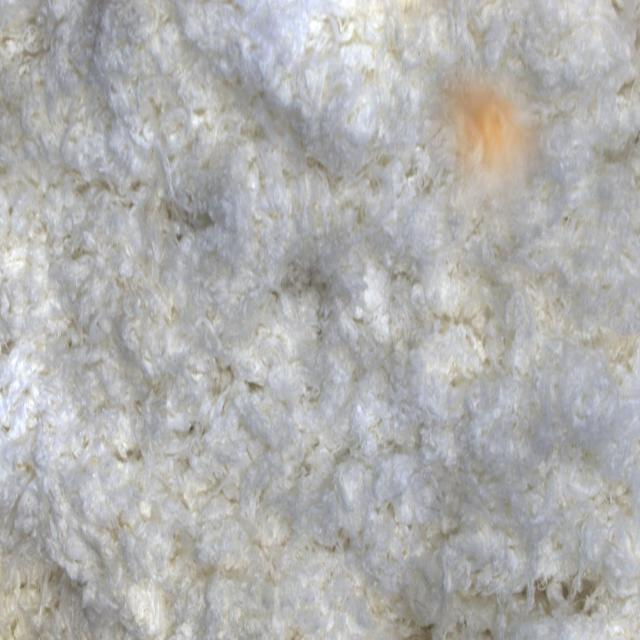dust: (419, 63, 554, 236)
